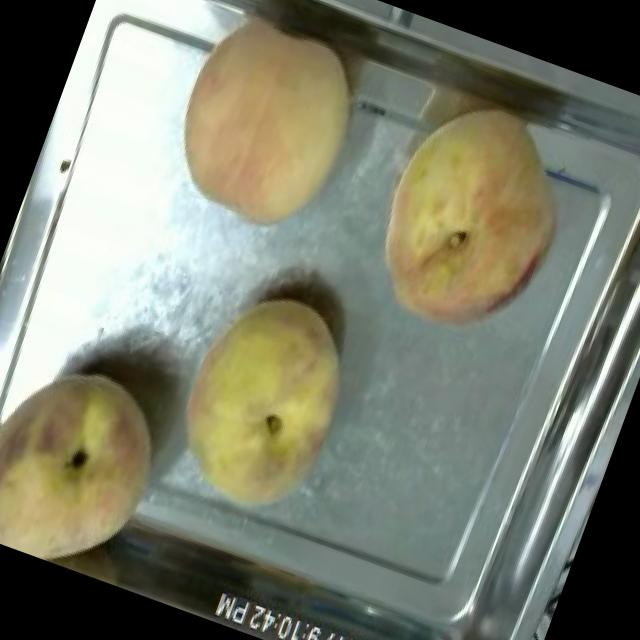Fruit: (344, 76, 600, 363), (140, 0, 394, 259), (149, 267, 379, 535), (0, 328, 193, 588)
